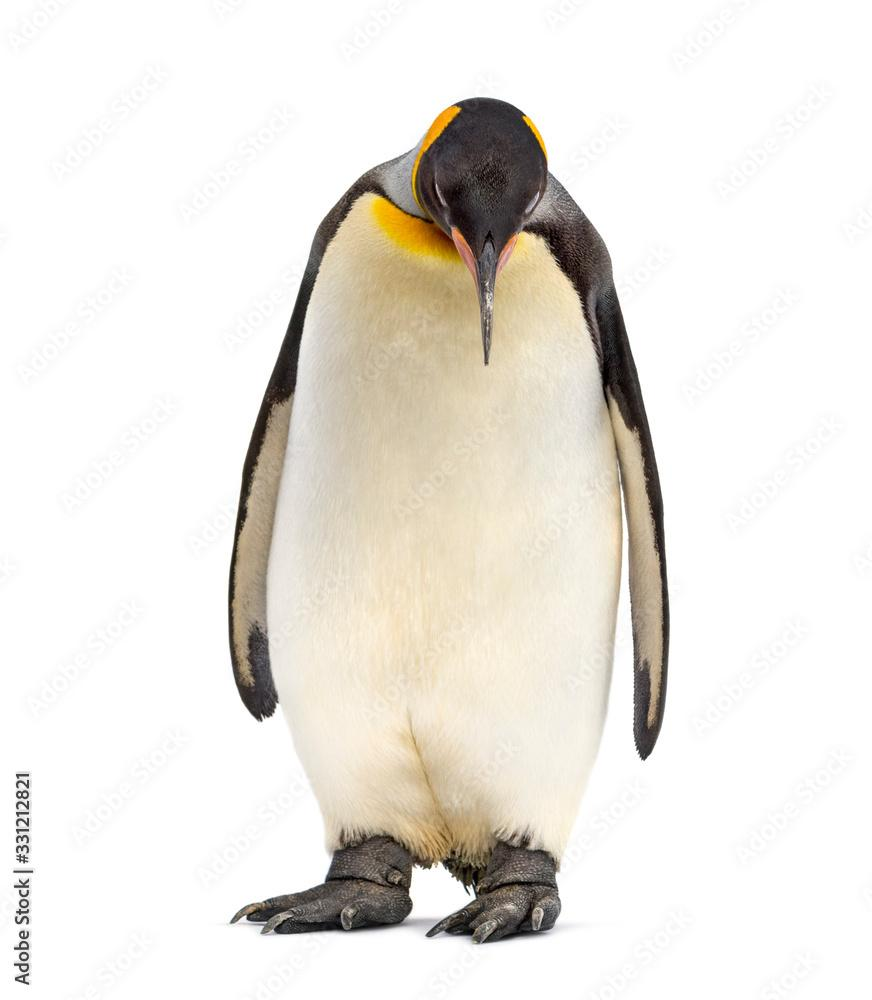king: (181, 52, 701, 1000)
